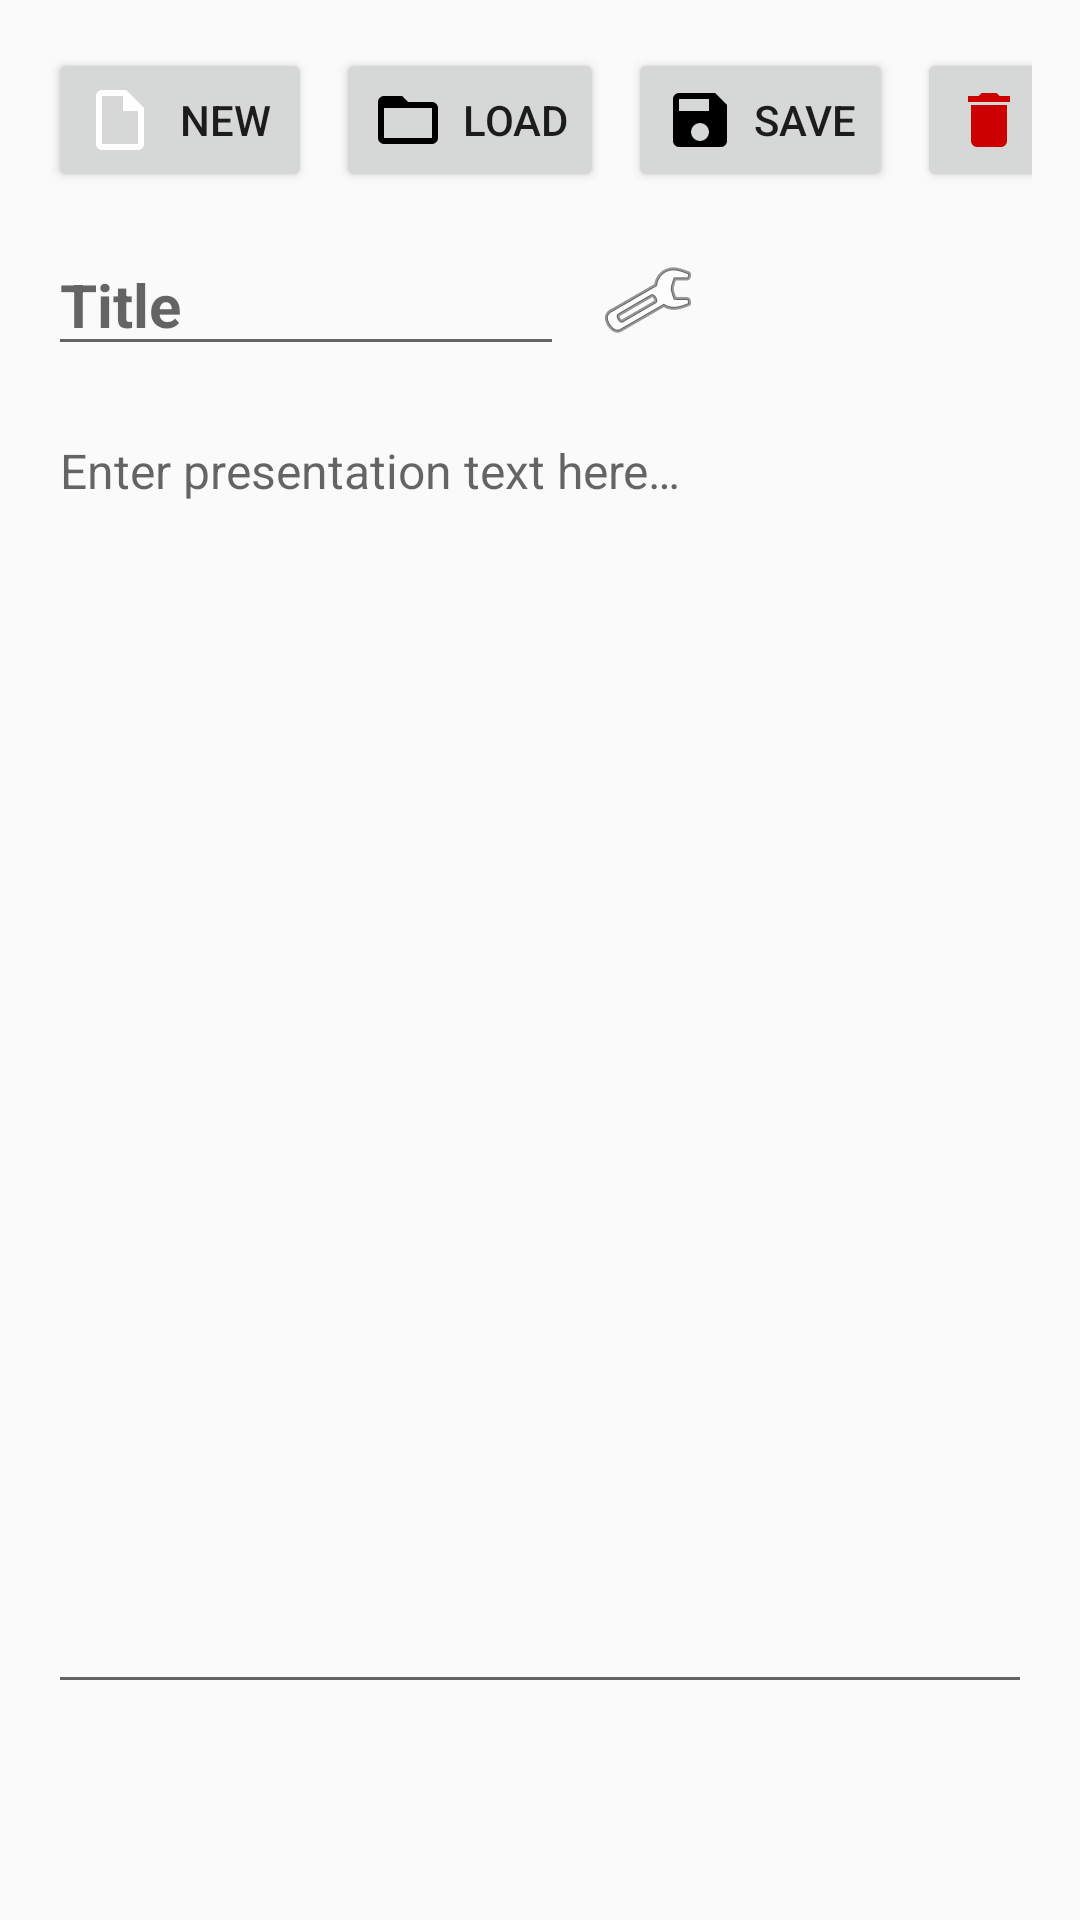

Screen size 1080 x 1920. Icon name, then its center in pixels as (x,y):
Settings: (648,300)
